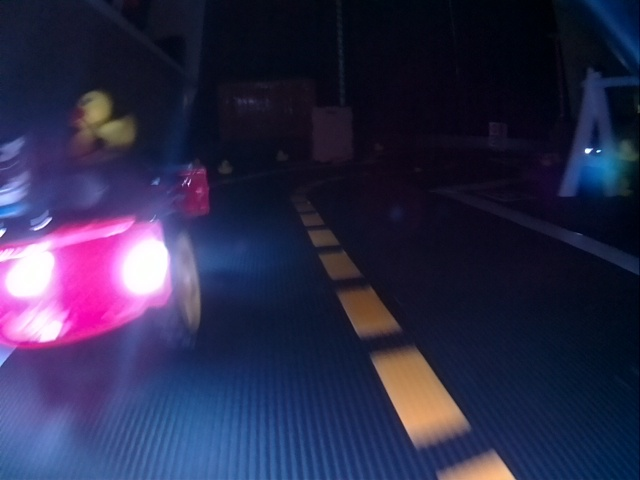Duckie: (69, 91, 134, 150)
Duckiebot: (1, 190, 201, 361)
